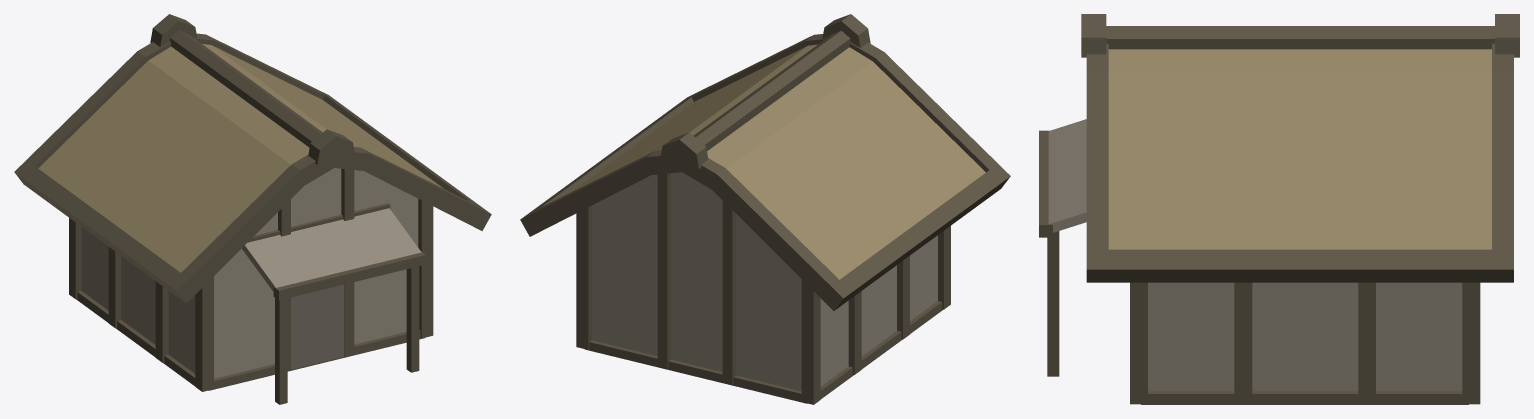
Rendered from House_5.fbx.
The picture shows the model from 3 angles, left to right: view 1: azimuth 30°, elevation 25°; view 2: azimuth 150°, elevation 25°; view 3: azimuth 270°, elevation 25°; orthographic projection. The views are drawn at different scales.
Parts seen in each view (by area): view 1: House_5; view 2: House_5; view 3: House_5.
Boxes of the visible parts, x1,y1,x2,y2 form: House_5: (14, 14, 491, 404); House_5: (520, 14, 1010, 404); House_5: (1039, 14, 1519, 404).
Bounding box in the file's own units: 514 × 378 × 518.
